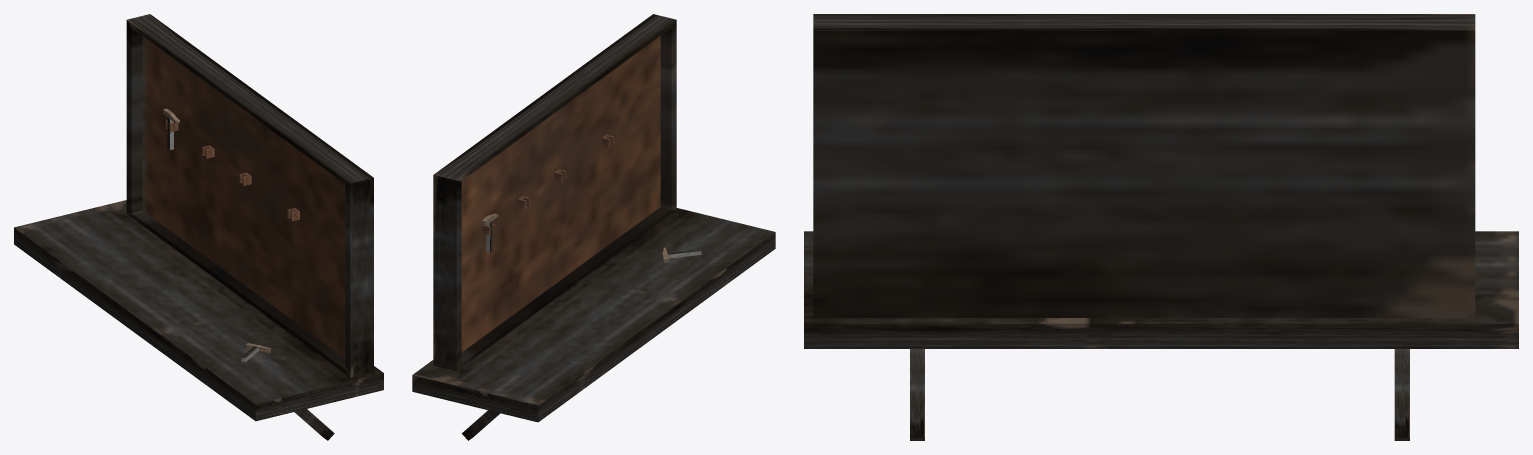
File: banco_trabajo.obj
3 views of the same model, side by side, from view 1: azimuth 30°, elevation 25°; view 2: azimuth 150°, elevation 25°; view 3: azimuth 270°, elevation 25° (orthographic). The views are drawn at different scales.
Visible parts, largest first — view 1: Cube.136_Cube.280, Cube.017_Cube.062, Cube.022_Cube.278; view 2: Cube.136_Cube.280, Cube.017_Cube.062, Cube.109_Cube.279; view 3: Cube.136_Cube.280, Cube.017_Cube.062, Cube.109_Cube.279, Cube.022_Cube.278.
Part boxes in pixels (bbox=[...]): Cube.136_Cube.280: bbox=[126, 14, 373, 377]; Cube.017_Cube.062: bbox=[14, 200, 383, 421]; Cube.022_Cube.278: bbox=[294, 409, 334, 440]; Cube.136_Cube.280: bbox=[433, 14, 676, 370]; Cube.017_Cube.062: bbox=[412, 208, 775, 422]; Cube.109_Cube.279: bbox=[462, 410, 499, 440]; Cube.136_Cube.280: bbox=[813, 14, 1475, 317]; Cube.017_Cube.062: bbox=[804, 231, 1518, 348]; Cube.109_Cube.279: bbox=[1394, 349, 1409, 440]; Cube.022_Cube.278: bbox=[910, 349, 924, 440].
Bounding box in the file's own units: 2 × 4.23 × 6.53.
Materials: 4 (4 with a texture image).
